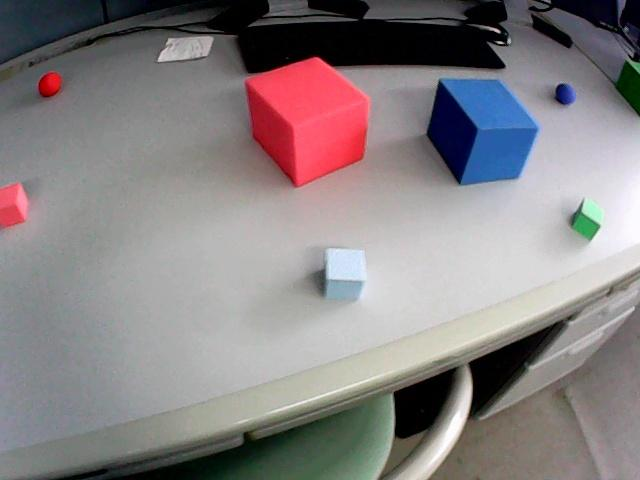blue_block: (427, 79, 538, 184), (325, 248, 366, 299)
red_block: (246, 58, 369, 185), (0, 183, 28, 227)
